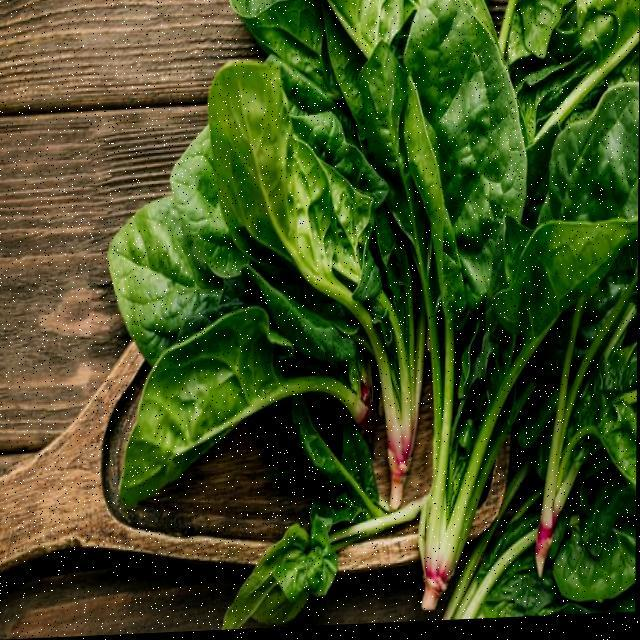Spinach: (100, 0, 640, 636)
